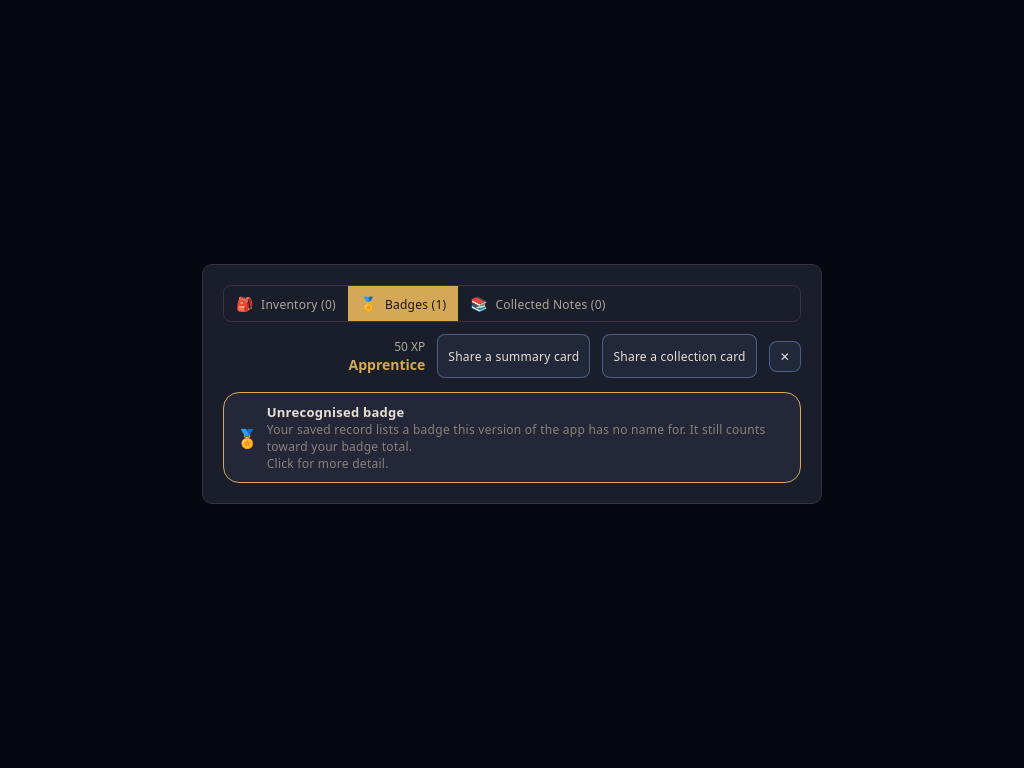
Test case: an unrecognised badge id is never printed › tells the truth about a legacy display name in the id slot rather than claiming a milestone rule
Click the button that starts with "Unrecognised badge" at (512, 438), box x1=223 y1=392 x2=801 y2=483
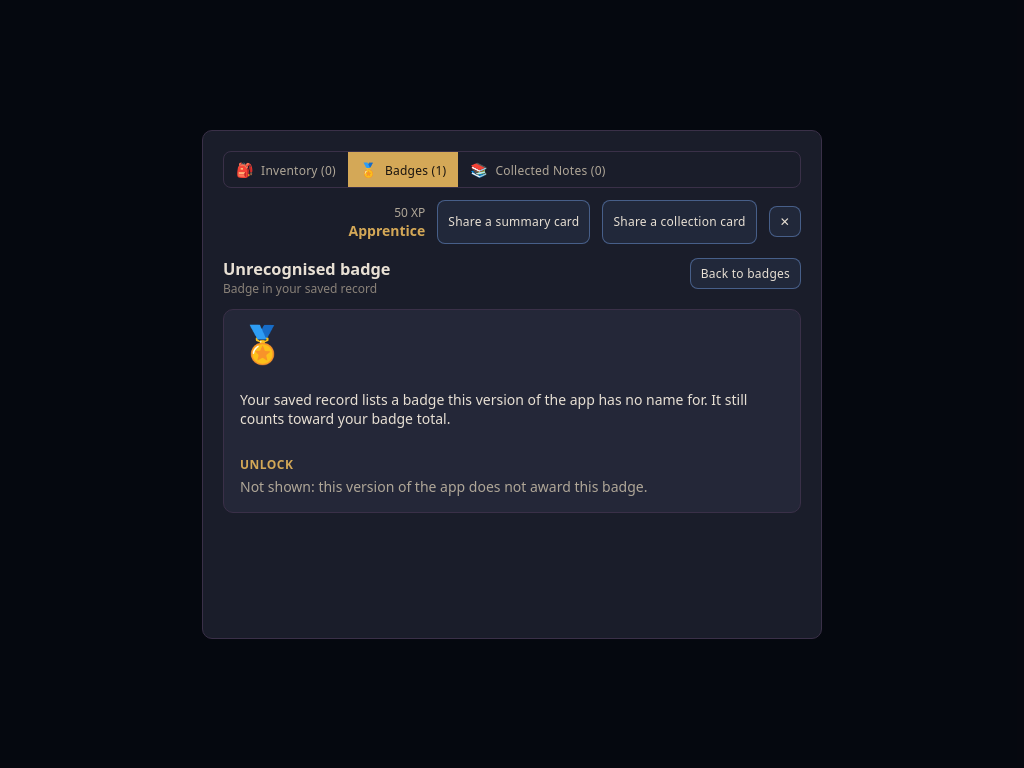
Expected: the heading "Unrecognised badge" is shown, x1=223 y1=258 x2=390 y2=280
Expected: the text "Badge in your saved record" is shown, x1=223 y1=280 x2=390 y2=296
Expected: the text "Not shown: this version of the app does not award this badge." is shown, x1=240 y1=476 x2=647 y2=496
